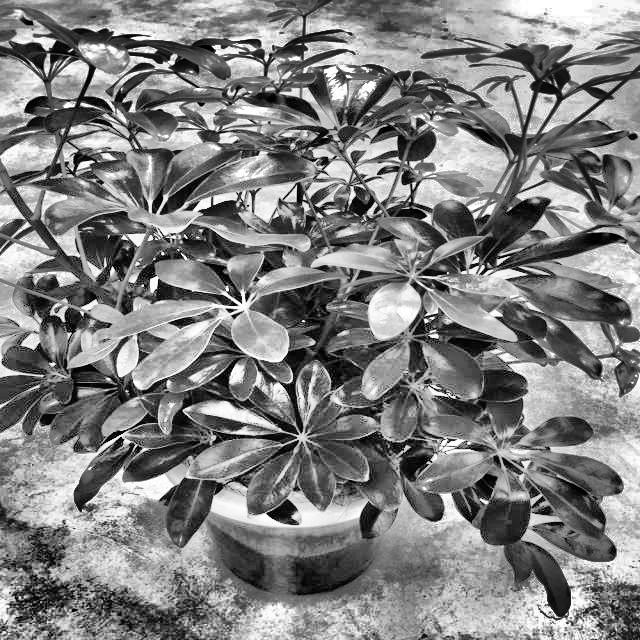plants: (29, 25, 604, 603)
